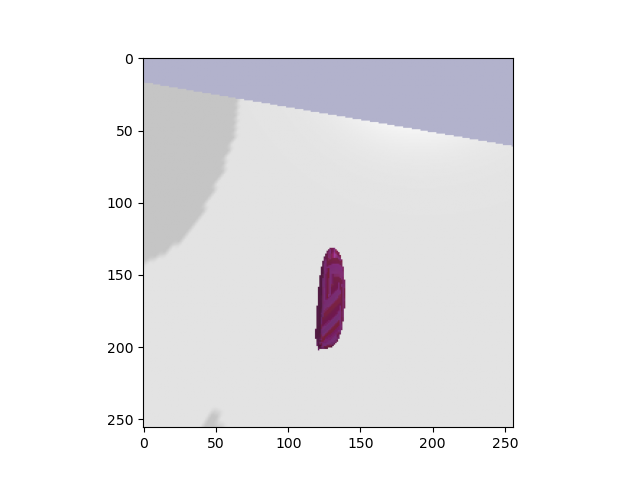v249b387_105: (305, 243, 356, 356)
